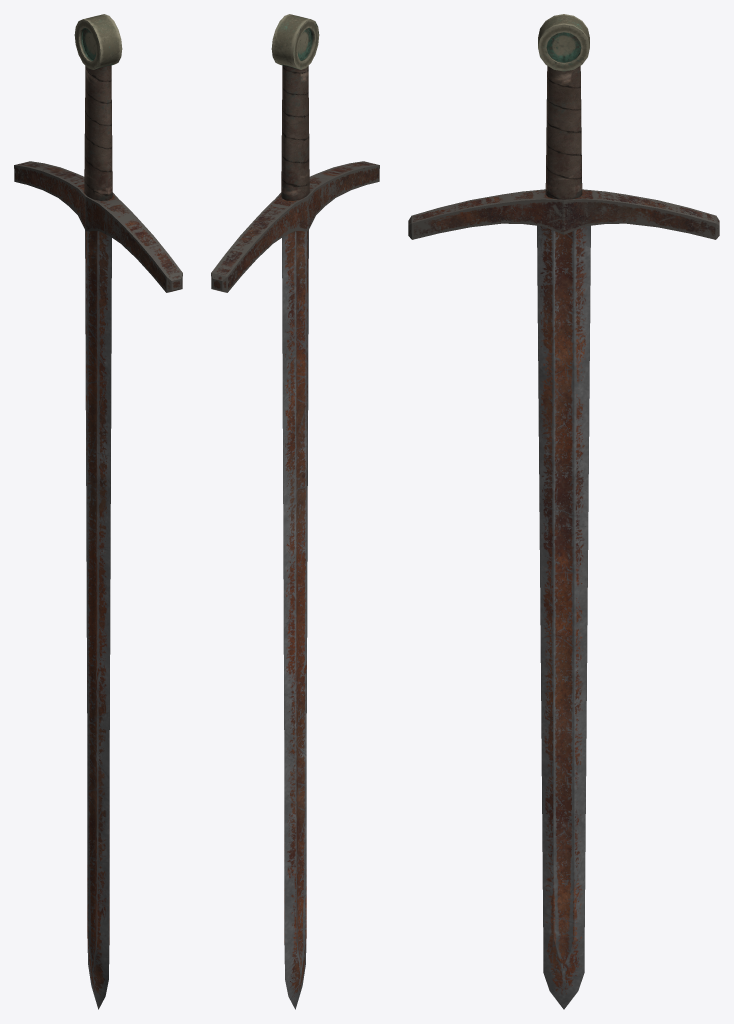
Rendered from SM_Sword1.fbx.
3 renders of one model, left to right at view 1: azimuth 30°, elevation 25°; view 2: azimuth 150°, elevation 25°; view 3: azimuth 270°, elevation 25°, orthographic.
Parts seen in each view (by area): view 1: SM_Sword1_LOD0; view 2: SM_Sword1_LOD0; view 3: SM_Sword1_LOD0.
Boxes of the visible parts, x1=… form: SM_Sword1_LOD0: x1=14, y1=14, x2=182, y2=1009; SM_Sword1_LOD0: x1=211, y1=14, x2=379, y2=1009; SM_Sword1_LOD0: x1=408, y1=14, x2=719, y2=1009.
Bounding box in the file's own units: 2.82 × 30 × 105.
1 material, 1 textured.
